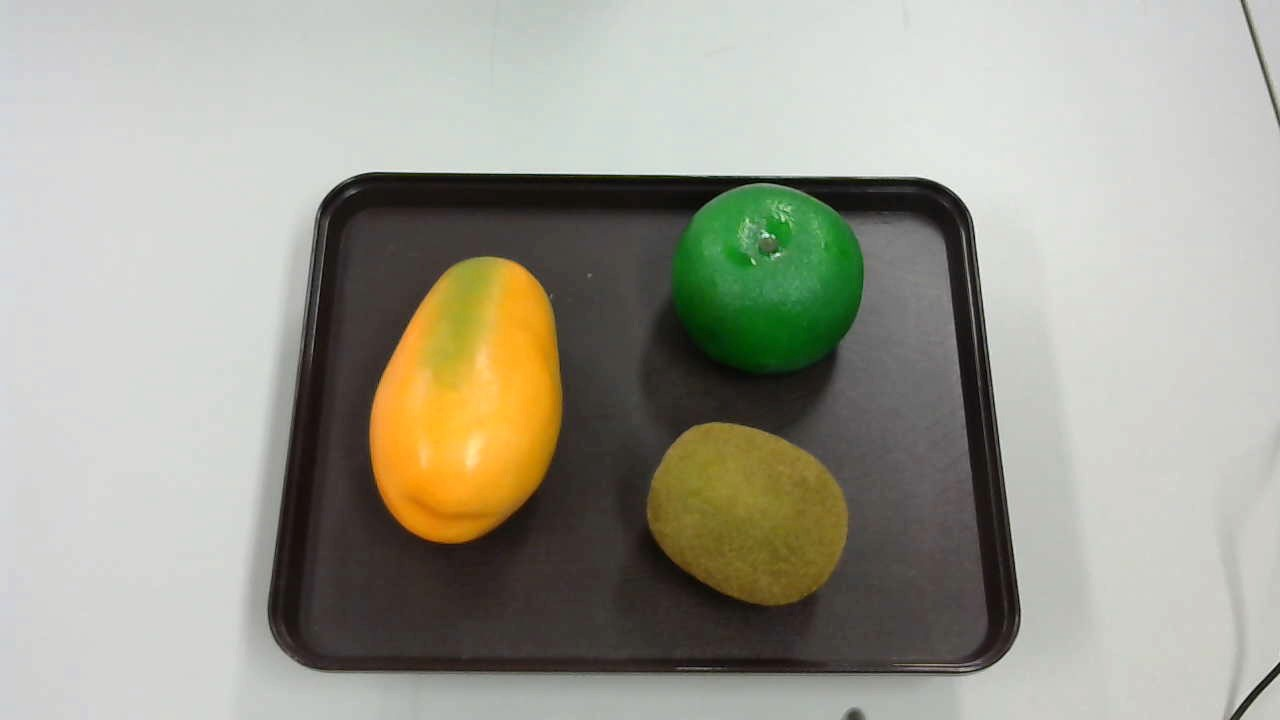green orange: (665, 180, 867, 380)
kiwi fruit: (641, 415, 851, 615)
papya: (369, 254, 569, 555)
